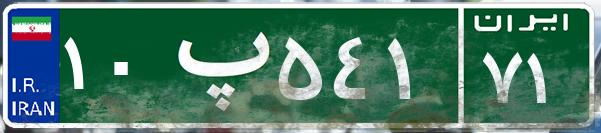0: (110, 28, 158, 105)
1: (385, 28, 445, 110), (57, 26, 110, 107), (525, 38, 570, 115)
4: (330, 28, 385, 110)
5: (273, 28, 330, 110)
7: (475, 38, 525, 113)
پ: (158, 15, 273, 115)
